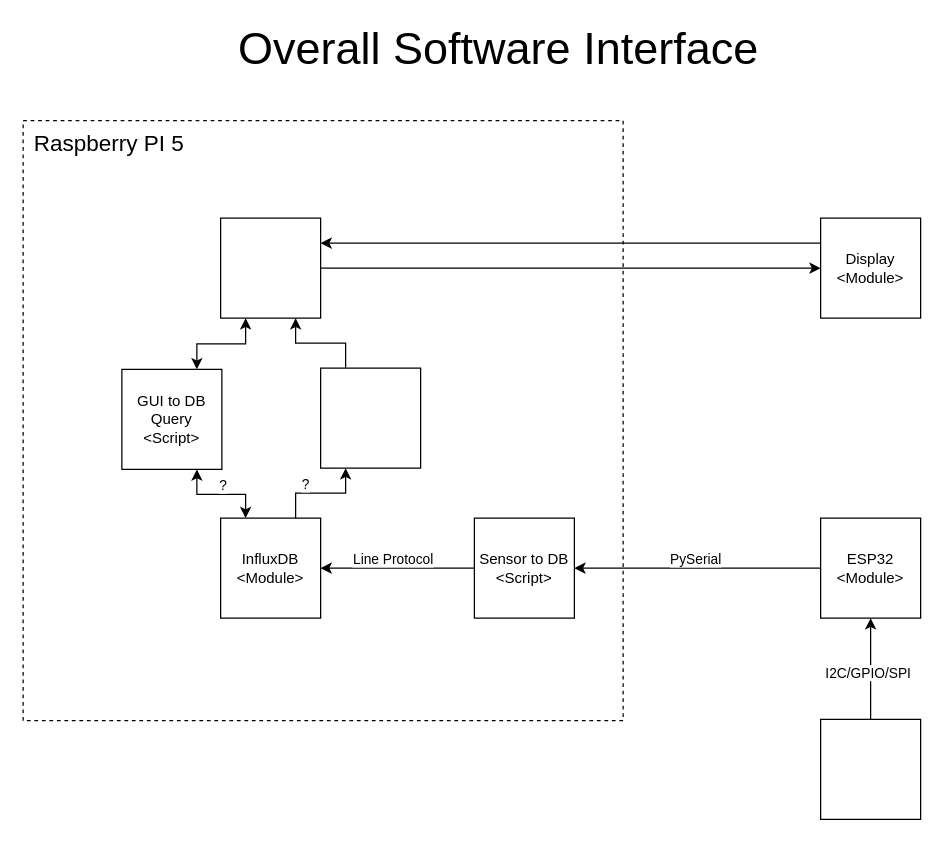
Image size: 943x841. Some labels were removed from this diagram. The box of each missing label's shape, as (x1, y1, x2, y2) in pixels:
Database to GUI Data <Script>: (319, 367, 421, 468)
Qt Code <Module>: (219, 217, 321, 318)
Sensors <Module>: (819, 718, 921, 819)
